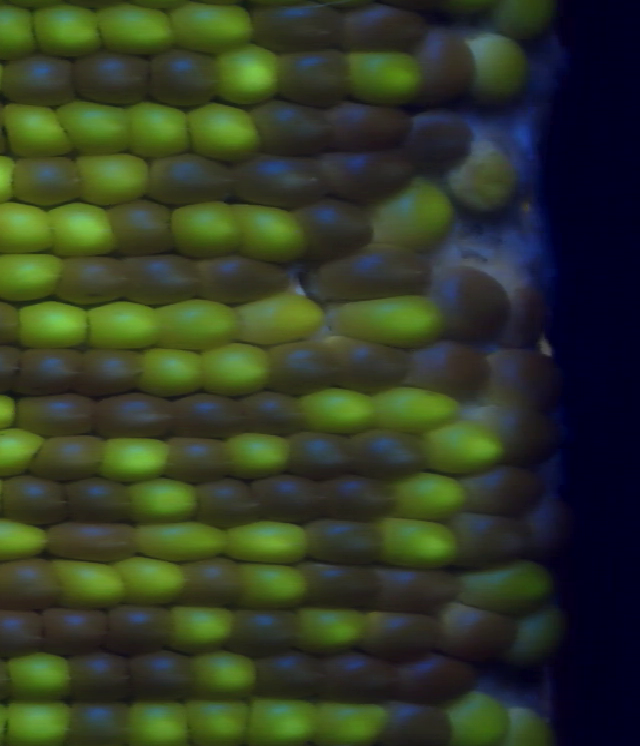fluorescent: (328, 294, 443, 347), (372, 180, 453, 247), (450, 144, 521, 211), (233, 203, 311, 263), (424, 422, 506, 478), (461, 563, 548, 613), (382, 518, 458, 574), (59, 100, 129, 157), (51, 199, 117, 259), (159, 299, 241, 347), (171, 201, 241, 257), (78, 153, 148, 208), (216, 47, 280, 107), (348, 50, 419, 104), (238, 295, 324, 339), (469, 34, 523, 103), (376, 386, 455, 432), (99, 3, 173, 52), (395, 473, 467, 523), (173, 3, 245, 53), (5, 100, 67, 158), (51, 560, 124, 609), (206, 343, 272, 397), (128, 104, 188, 162), (15, 302, 92, 347), (222, 526, 306, 566), (298, 389, 376, 432), (37, 5, 102, 56), (88, 300, 160, 346), (245, 697, 317, 743), (296, 609, 368, 655), (100, 436, 169, 483), (133, 520, 206, 563), (223, 433, 291, 479), (121, 558, 186, 606), (140, 346, 201, 397), (9, 652, 70, 703), (193, 648, 256, 696), (313, 702, 385, 743), (453, 692, 507, 746), (239, 562, 306, 605), (0, 254, 60, 302), (0, 202, 55, 254), (4, 703, 70, 746), (169, 607, 232, 652), (188, 696, 243, 746), (130, 478, 194, 520), (126, 701, 190, 742), (514, 609, 556, 664), (0, 517, 50, 563), (0, 5, 33, 63), (0, 426, 39, 474), (495, 2, 548, 37), (504, 703, 545, 746)
nonfluorescent: (308, 248, 434, 296), (436, 268, 514, 342), (331, 334, 412, 397), (148, 152, 243, 205), (199, 255, 292, 307), (317, 152, 416, 200), (252, 101, 333, 156), (439, 602, 517, 658), (418, 28, 473, 107), (45, 520, 141, 565), (78, 51, 151, 110), (276, 52, 350, 110), (408, 340, 483, 397), (123, 252, 198, 308), (405, 113, 474, 173), (249, 8, 343, 52), (0, 56, 79, 108), (456, 510, 528, 567), (237, 157, 321, 205), (297, 202, 375, 253), (325, 103, 413, 148), (493, 401, 553, 466), (483, 347, 554, 401), (228, 601, 296, 657), (396, 656, 477, 703), (323, 652, 399, 702), (356, 610, 439, 655), (306, 519, 383, 567), (379, 570, 459, 616), (109, 199, 178, 252), (461, 468, 540, 513), (12, 157, 83, 207), (339, 9, 427, 49), (128, 652, 193, 706), (1, 476, 67, 529), (169, 392, 243, 439), (303, 562, 379, 607), (17, 347, 84, 398), (323, 472, 391, 522), (96, 394, 174, 437), (356, 428, 423, 478), (27, 435, 103, 479), (195, 478, 260, 529), (266, 342, 335, 390), (58, 257, 124, 307), (151, 47, 206, 106), (17, 395, 96, 436), (107, 607, 175, 654), (258, 476, 323, 525), (254, 653, 323, 699), (69, 652, 131, 702), (39, 612, 107, 657), (175, 560, 240, 607), (0, 557, 59, 608), (165, 440, 228, 487), (67, 477, 132, 522), (288, 432, 356, 474), (384, 704, 451, 746), (82, 350, 143, 394), (67, 702, 133, 742), (243, 391, 300, 436), (0, 607, 46, 658), (510, 299, 543, 340)
